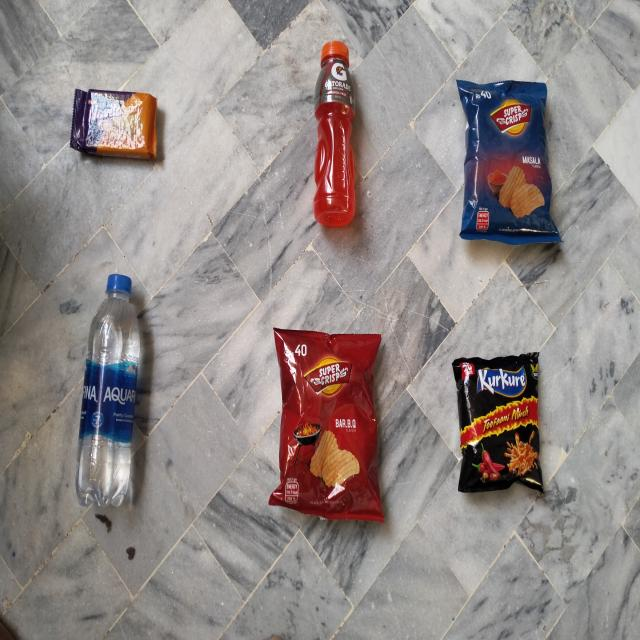Plastic: (270, 326, 384, 514), (76, 271, 142, 506), (466, 81, 556, 241), (454, 360, 544, 493), (315, 42, 357, 232), (70, 88, 156, 156)
